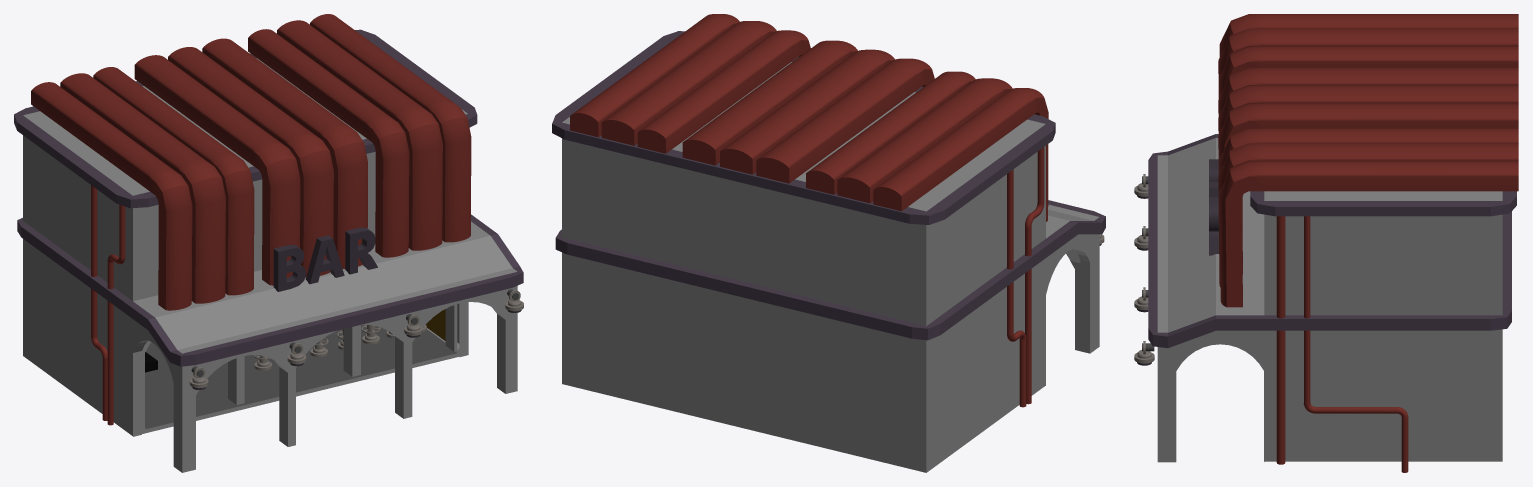
Rendered from 48_Bar_Building.fbx.
3 renders of one model, left to right at view 1: azimuth 30°, elevation 25°; view 2: azimuth 150°, elevation 25°; view 3: azimuth 270°, elevation 25°, orthographic. The views are drawn at different scales.
Parts seen in each view (by area): view 1: BAR_v2:_BAR_INterior:pCube100, BAR_v2:_BAR_INterior:pPrism17, BAR_v2:_BAR_INterior:pPrism13, BAR_v2:_BAR_INterior:pPrism25, BAR_v2:_BAR_INterior:pPrism24, BAR_v2:_BAR_INterior:pPrism14, BAR_v2:_BAR_INterior:pPrism18, BAR_v2:_BAR_INterior:pPrism19, BAR_v2:_BAR_INterior:pPrism23, BAR_v2:_BAR_INterior:pPrism22, typeMesh1, BAR_v2:BAR_interior_archways (+2 smaller); view 2: BAR_v2:_BAR_INterior:pCube100, BAR_v2:_BAR_INterior:pPrism17, BAR_v2:_BAR_INterior:pPrism13, BAR_v2:_BAR_INterior:pPrism25, BAR_v2:_BAR_INterior:pPrism18, BAR_v2:_BAR_INterior:pPrism14, BAR_v2:_BAR_INterior:pPrism24, BAR_v2:_BAR_INterior:pPrism19, BAR_v2:_BAR_INterior:pPrism22, BAR_v2:_BAR_INterior:pPrism23, pCylinder409, pCylinder408; view 3: BAR_v2:_BAR_INterior:pCube100, BAR_v2:_BAR_INterior:pPrism23, BAR_v2:_BAR_INterior:pPrism18, BAR_v2:_BAR_INterior:pPrism22, BAR_v2:_BAR_INterior:pPrism24, BAR_v2:_BAR_INterior:pPrism14, BAR_v2:_BAR_INterior:pPrism19, BAR_v2:_BAR_INterior:pPrism17, BAR_v2:_BAR_INterior:pPrism25, BAR_v2:_BAR_INterior:pPrism13, pCylinder407, pCylinder304 (+1 smaller).
Boxes of the visible parts, bbox=[...] form: BAR_v2:_BAR_INterior:pCube100: bbox=[14, 29, 523, 472]; BAR_v2:_BAR_INterior:pPrism17: bbox=[134, 55, 300, 285]; BAR_v2:_BAR_INterior:pPrism13: bbox=[31, 82, 192, 310]; BAR_v2:_BAR_INterior:pPrism25: bbox=[248, 29, 409, 257]; BAR_v2:_BAR_INterior:pPrism24: bbox=[277, 20, 442, 250]; BAR_v2:_BAR_INterior:pPrism14: bbox=[60, 73, 225, 303]; BAR_v2:_BAR_INterior:pPrism18: bbox=[202, 38, 367, 268]; BAR_v2:_BAR_INterior:pPrism19: bbox=[168, 47, 333, 276]; BAR_v2:_BAR_INterior:pPrism23: bbox=[310, 14, 471, 242]; BAR_v2:_BAR_INterior:pPrism22: bbox=[93, 67, 254, 295]; typeMesh1: bbox=[273, 227, 377, 291]; BAR_v2:BAR_interior_archways: bbox=[142, 304, 457, 427]; BAR_v2:_BAR_INterior:pCube100: bbox=[552, 31, 1105, 472]; BAR_v2:_BAR_INterior:pPrism17: bbox=[756, 58, 934, 183]; BAR_v2:_BAR_INterior:pPrism13: bbox=[873, 88, 1048, 221]; BAR_v2:_BAR_INterior:pPrism25: bbox=[637, 30, 810, 153]; BAR_v2:_BAR_INterior:pPrism18: bbox=[682, 40, 857, 165]; BAR_v2:_BAR_INterior:pPrism14: bbox=[837, 78, 1012, 203]; BAR_v2:_BAR_INterior:pPrism24: bbox=[601, 21, 776, 145]; BAR_v2:_BAR_INterior:pPrism19: bbox=[720, 49, 894, 174]; BAR_v2:_BAR_INterior:pPrism22: bbox=[806, 71, 975, 194]; BAR_v2:_BAR_INterior:pPrism23: bbox=[570, 14, 739, 137]; pCylinder409: bbox=[1007, 169, 1026, 407]; pCylinder408: bbox=[1025, 147, 1044, 404]; BAR_v2:_BAR_INterior:pCube100: bbox=[1148, 134, 1516, 462]; BAR_v2:_BAR_INterior:pPrism23: bbox=[1219, 161, 1518, 307]; BAR_v2:_BAR_INterior:pPrism18: bbox=[1218, 104, 1518, 173]; BAR_v2:_BAR_INterior:pPrism22: bbox=[1219, 47, 1518, 96]; BAR_v2:_BAR_INterior:pPrism24: bbox=[1218, 143, 1518, 287]; BAR_v2:_BAR_INterior:pPrism14: bbox=[1218, 28, 1518, 98]; BAR_v2:_BAR_INterior:pPrism19: bbox=[1218, 85, 1518, 218]; BAR_v2:_BAR_INterior:pPrism17: bbox=[1218, 68, 1518, 200]; BAR_v2:_BAR_INterior:pPrism25: bbox=[1219, 128, 1518, 274]; BAR_v2:_BAR_INterior:pPrism13: bbox=[1219, 14, 1518, 56]; pCylinder407: bbox=[1303, 216, 1408, 472]; pCylinder304: bbox=[1276, 216, 1285, 464].
Size of the model in its own units: 8.49 by 6.1 by 7.28.
